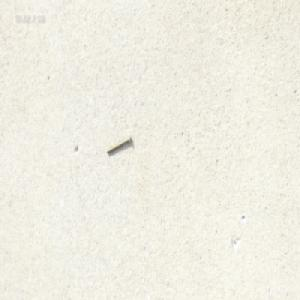Bolt: (105, 133, 130, 154)
